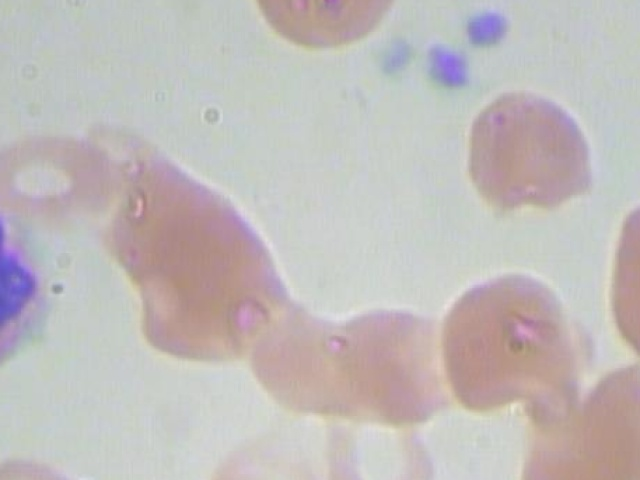Platelets: (454, 0, 513, 56), (421, 42, 471, 98), (370, 28, 419, 83)
RBC: (421, 244, 586, 421), (462, 81, 604, 223), (326, 303, 456, 428), (0, 118, 128, 223), (315, 399, 444, 480), (248, 0, 409, 54), (594, 185, 640, 361), (0, 441, 89, 480)
WBC: (0, 193, 52, 380)
